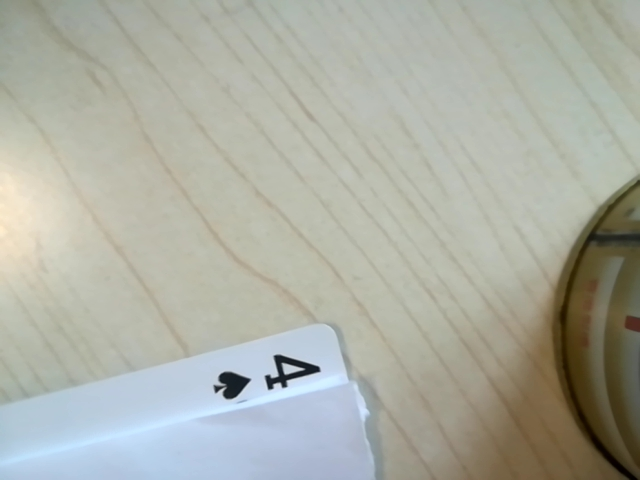ht 4: (189, 344, 347, 417)
